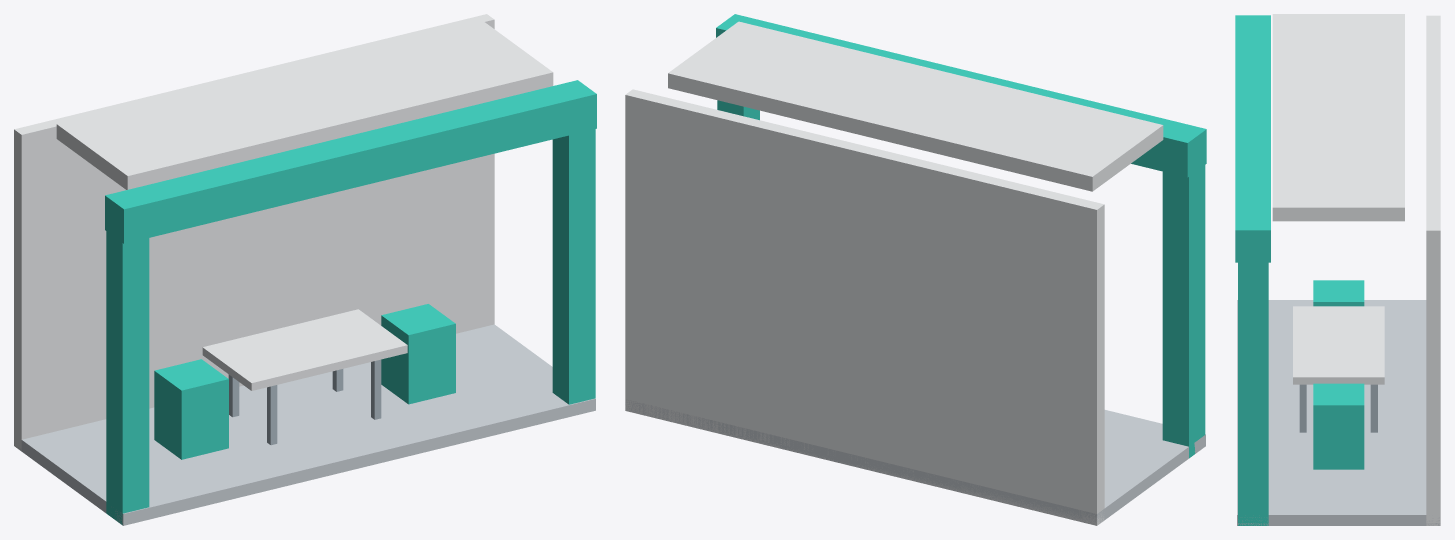
3 renders of one model, left to right at view 1: azimuth 30°, elevation 25°; view 2: azimuth 150°, elevation 25°; view 3: azimuth 270°, elevation 25°, orthographic. The views are drawn at different scales.
Visible parts, largest first — view 1: Exhibition Booth Concept; view 2: Exhibition Booth Concept; view 3: Exhibition Booth Concept.
Boxes of the visible parts, x1,y1,x2,y2 form: Exhibition Booth Concept: (14,14,596,525); Exhibition Booth Concept: (625,14,1206,525); Exhibition Booth Concept: (1235,14,1440,525).
Bounding box in the file's own units: 5 × 3.34 × 2.01.
